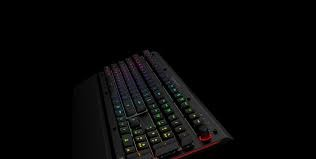keyboard: (3, 25, 313, 158)
